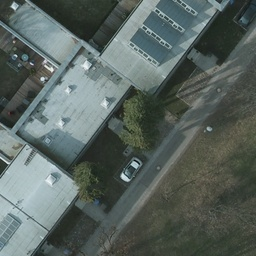car: (119, 156, 141, 182)
